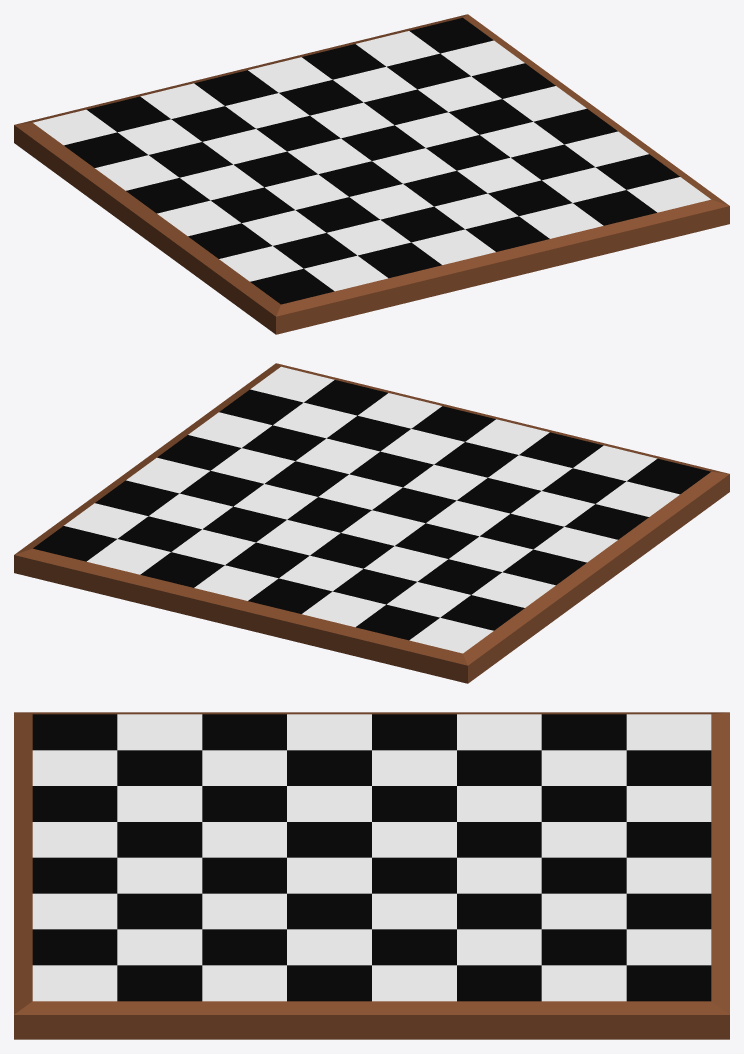
Rendered from chessboard01.gltf.
3 views of the same model, one above another, from view 1: azimuth 30°, elevation 25°; view 2: azimuth 150°, elevation 25°; view 3: azimuth 270°, elevation 25° (orthographic). The views are drawn at different scales.
Visible parts, largest first — view 1: Cube; view 2: Cube; view 3: Cube.
Boxes of the visible parts, left/top/right/bottom form: Cube: left=14, top=14, right=729, bottom=334; Cube: left=14, top=363, right=729, bottom=683; Cube: left=14, top=712, right=729, bottom=1039.
Size of the model in its own units: 0.3001 by 0.0141 by 0.3001.
Materials: 1 (1 with a texture image).
